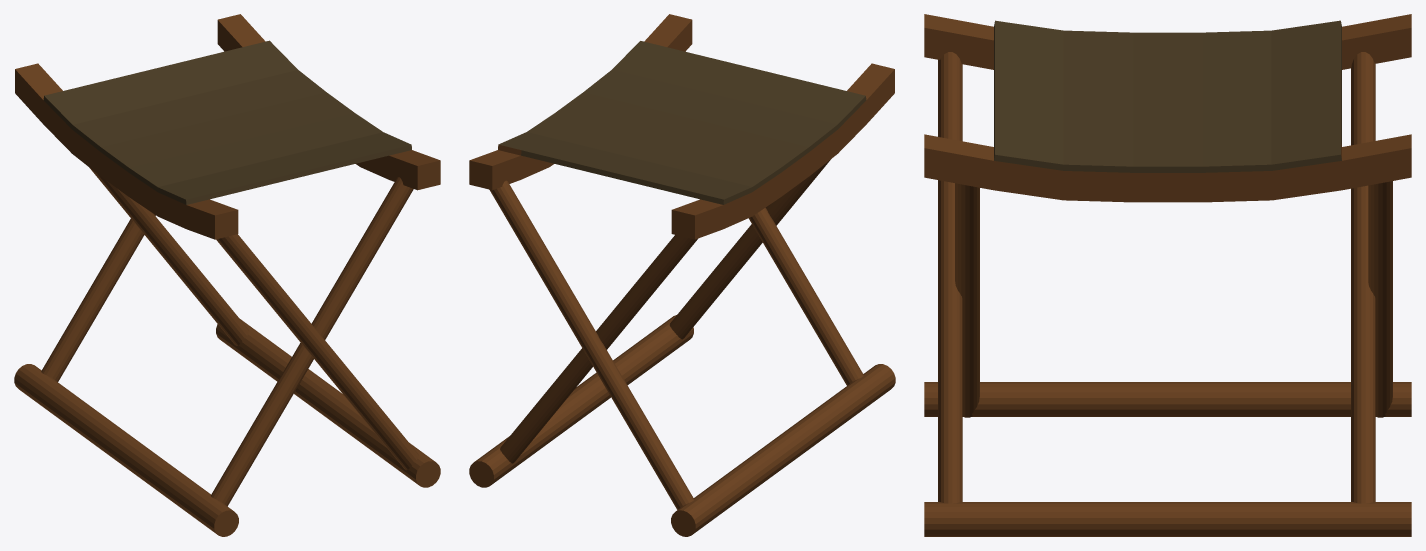
File: Stoffstuhl.fbx
3 renders of one model, left to right at view 1: azimuth 30°, elevation 25°; view 2: azimuth 150°, elevation 25°; view 3: azimuth 270°, elevation 25°, orthographic. The views are drawn at different scales.
Parts seen in each view (by area): view 1: Stoffstuhl; view 2: Stoffstuhl; view 3: Stoffstuhl.
Boxes of the visible parts, x1=… form: Stoffstuhl: x1=14, y1=14, x2=440, y2=536; Stoffstuhl: x1=469, y1=14, x2=895, y2=536; Stoffstuhl: x1=924, y1=14, x2=1411, y2=536.
Size of the model in its own units: 47.11 by 64.45 by 72.11.
